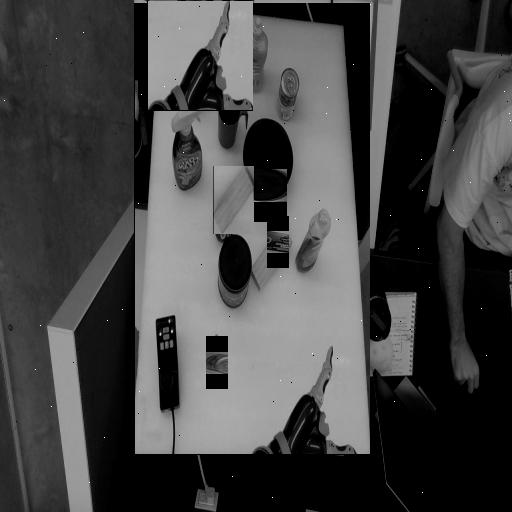bowl: (213, 262, 261, 336)
cleanser: (174, 200, 210, 234)
coffee_can: (253, 169, 286, 201)
jaco: (148, 1, 253, 111)
meat_can: (267, 230, 289, 252)
mug: (257, 322, 286, 351)
mustard_bottle: (237, 388, 264, 413)
rubik: (299, 359, 321, 381)
soup_can: (206, 352, 227, 373)
windex: (302, 297, 333, 326)
wooden_block: (214, 166, 253, 232)
workspace: (134, 3, 370, 455)
